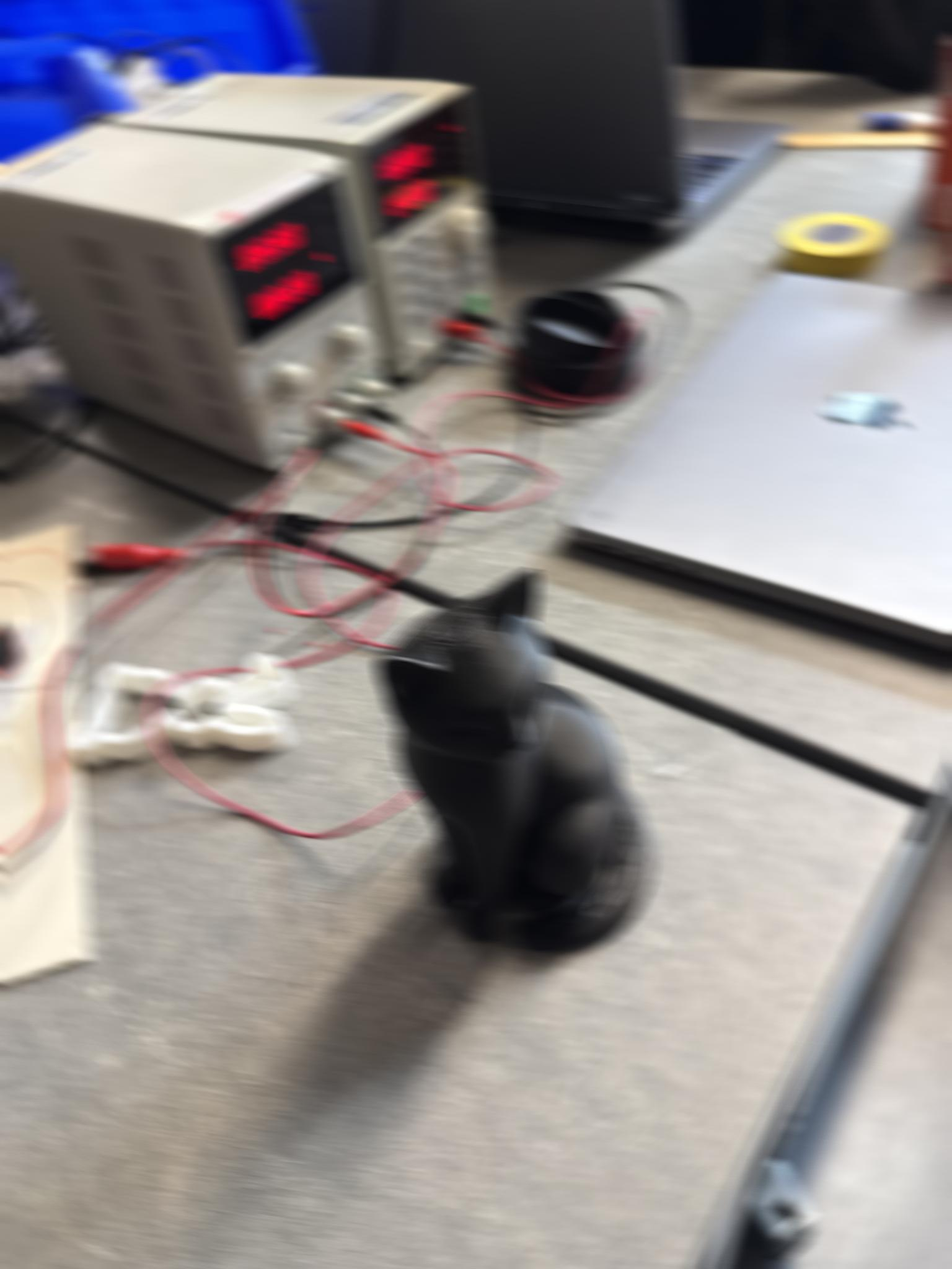cat: (374, 567, 656, 964)
